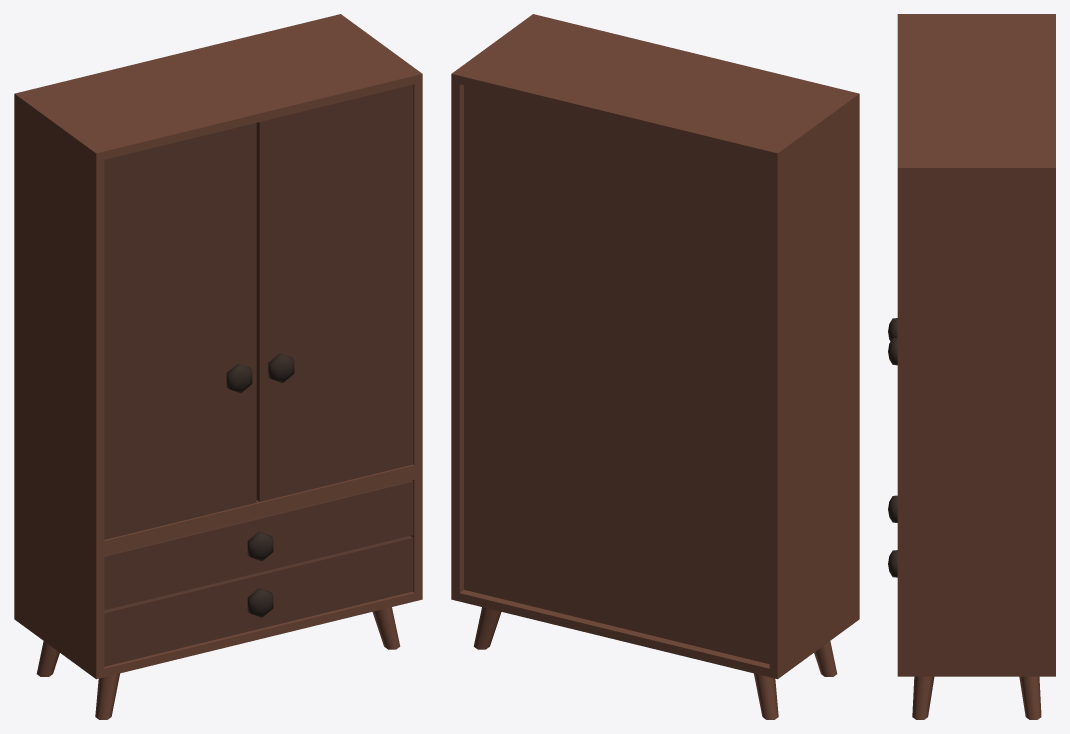
The model's file is Cupboard_01.fbx.
3 renders of one model, left to right at view 1: azimuth 30°, elevation 25°; view 2: azimuth 150°, elevation 25°; view 3: azimuth 270°, elevation 25°, orthographic. The views are drawn at different scales.
Visible parts, largest first — view 1: Cupboard_01, Cupboard_01_Door_R, Cupboard_01_Door_L, Cupboard_01_Drawer_Lower, Cupboard_01_Drawer_Upper; view 2: Cupboard_01; view 3: Cupboard_01.
Part boxes in pixels (box(x1,y1,x2,y2)): Cupboard_01: box(14, 14, 422, 719); Cupboard_01_Door_R: box(256, 84, 413, 501); Cupboard_01_Door_L: box(104, 123, 256, 539); Cupboard_01_Drawer_Lower: box(104, 536, 413, 666); Cupboard_01_Drawer_Upper: box(104, 480, 413, 610); Cupboard_01: box(451, 14, 859, 719); Cupboard_01: box(897, 14, 1055, 719).
Bounding box in the file's own units: 1.07 × 1.81 × 0.4942.
